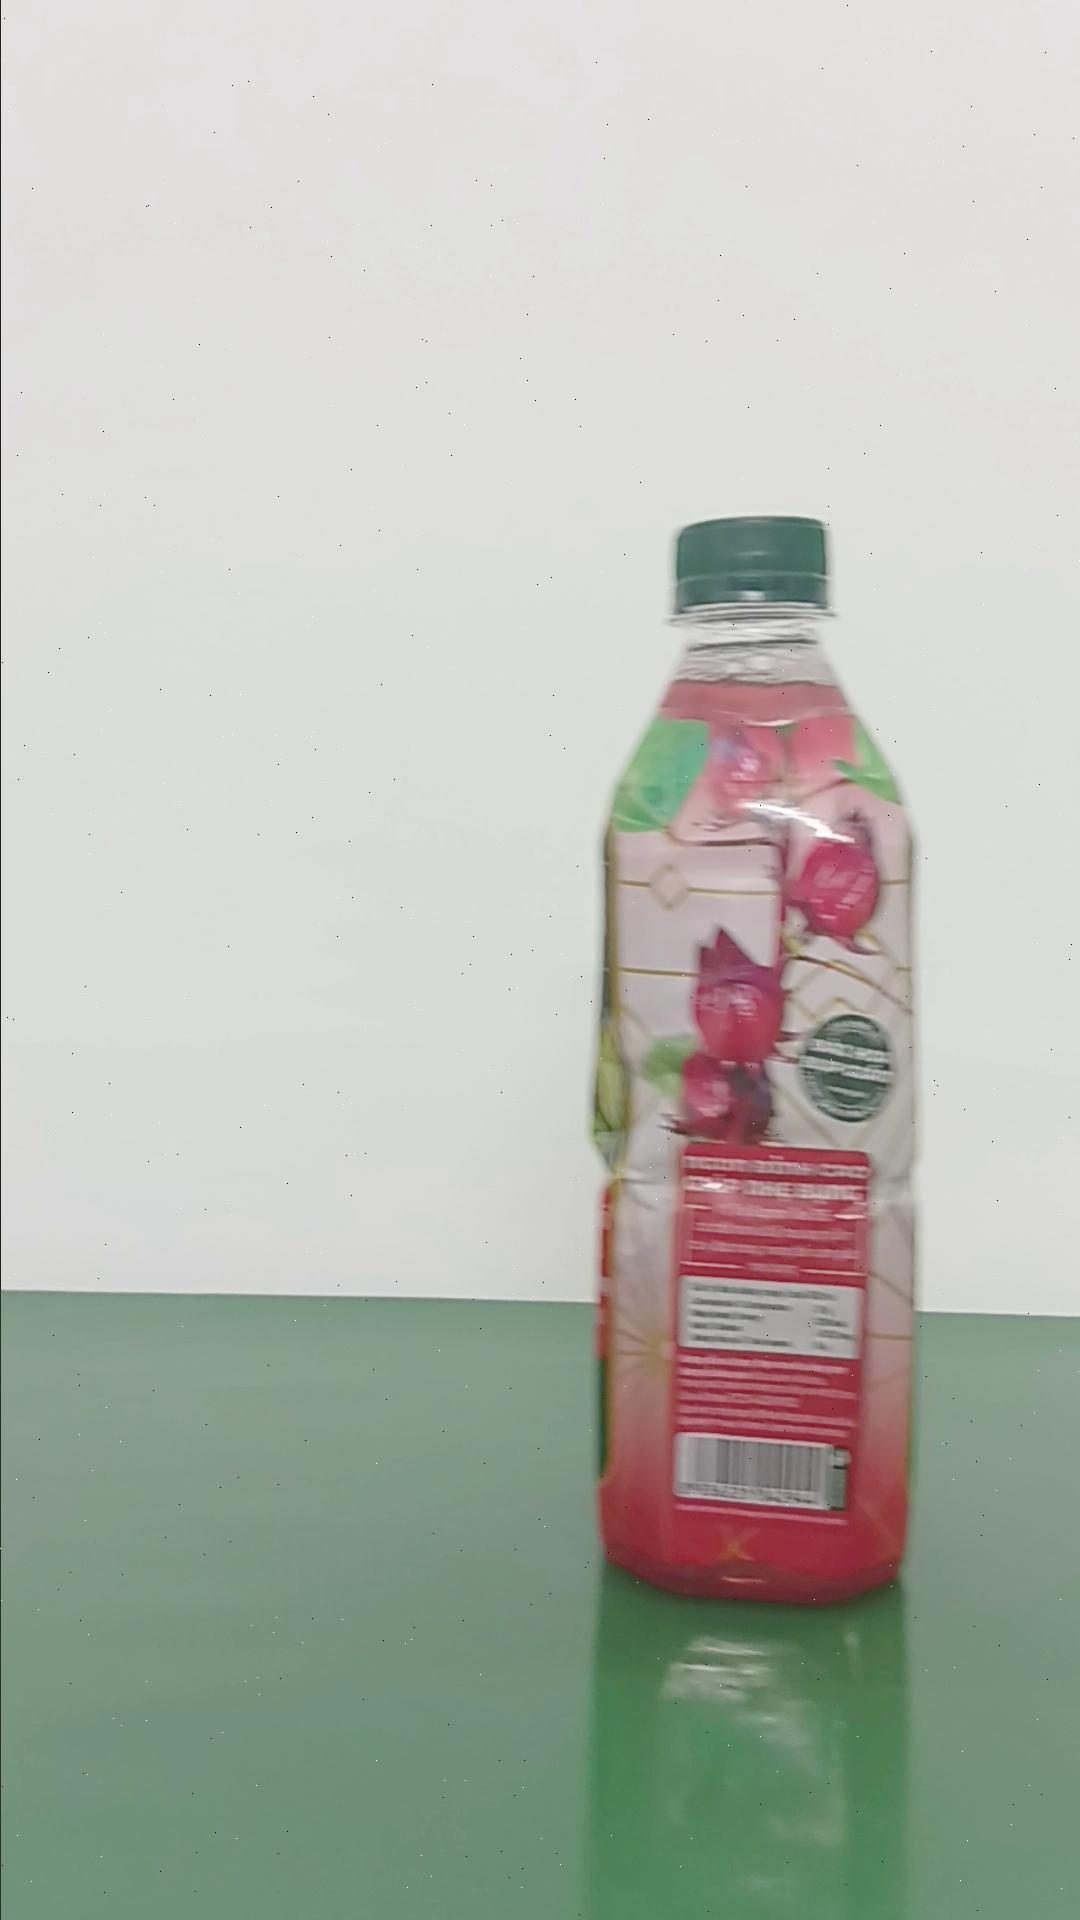loi meo sp: (585, 512, 920, 1605)
